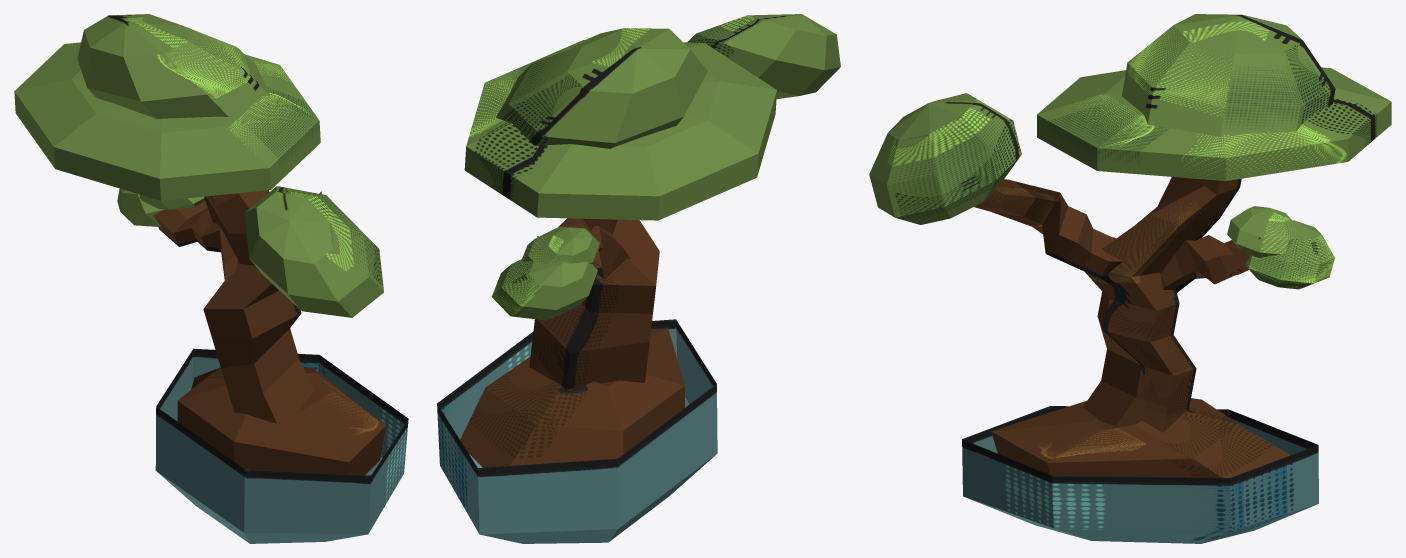
File: bonsai.glb
3 renders of one model, left to right at view 1: azimuth 30°, elevation 25°; view 2: azimuth 150°, elevation 25°; view 3: azimuth 270°, elevation 25°, orthographic. The views are drawn at different scales.
Parts seen in each view (by area): view 1: Cylinder.002; view 2: Cylinder.002; view 3: Cylinder.002.
Part boxes in pixels (x1,y1,x2,y2): Cylinder.002: (14, 14, 408, 543); Cylinder.002: (437, 14, 840, 543); Cylinder.002: (869, 14, 1391, 543).
Size of the model in its own units: 2.75 by 4.5 by 4.48.
1 material, 1 textured.
